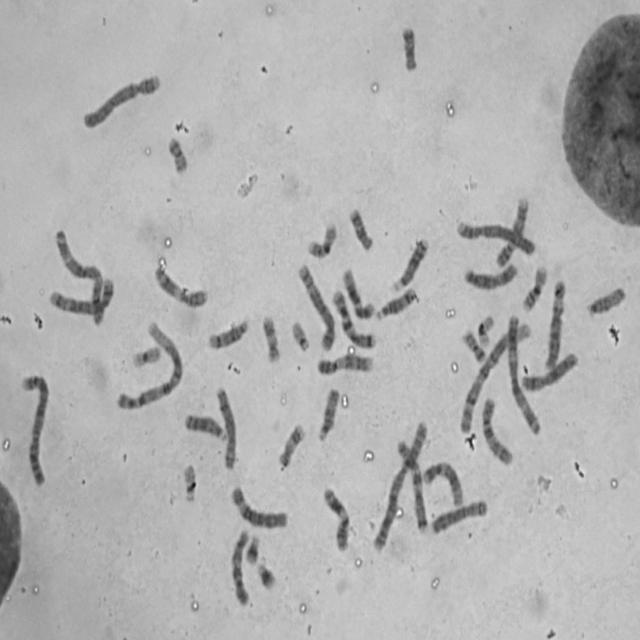A1: (456, 316, 533, 436), (111, 316, 186, 414)
A2: (370, 416, 430, 555), (18, 368, 52, 489)
A3: (52, 224, 107, 328), (504, 309, 543, 436)
B4: (79, 68, 163, 132), (453, 214, 538, 257)
B5: (295, 260, 337, 354), (46, 273, 116, 317)
C10: (478, 392, 516, 468), (228, 525, 252, 608)
C11: (151, 262, 211, 310), (320, 482, 352, 554)
C12: (420, 456, 465, 508), (339, 263, 376, 321)
C6: (227, 482, 290, 532), (542, 275, 568, 373)
C7: (394, 435, 431, 534), (329, 285, 378, 351)
C8: (428, 496, 490, 537), (212, 381, 239, 472)
C9: (494, 192, 532, 269), (313, 350, 376, 378)
D13: (389, 233, 430, 293), (182, 409, 228, 443)
D14: (373, 283, 420, 322), (204, 313, 251, 352)
D15: (584, 281, 628, 319), (314, 384, 341, 445)
E16: (520, 261, 550, 313), (305, 218, 339, 260)
E17: (275, 418, 307, 471), (260, 310, 282, 365)
E18: (346, 202, 376, 253), (398, 20, 420, 74)
F19: (130, 340, 163, 371), (474, 310, 496, 349)
F20: (164, 131, 190, 176), (459, 325, 488, 365)
G21: (254, 556, 279, 593), (242, 530, 262, 567)
G22: (179, 459, 199, 505), (288, 316, 312, 353)
X: (519, 347, 580, 393), (460, 258, 520, 292)
